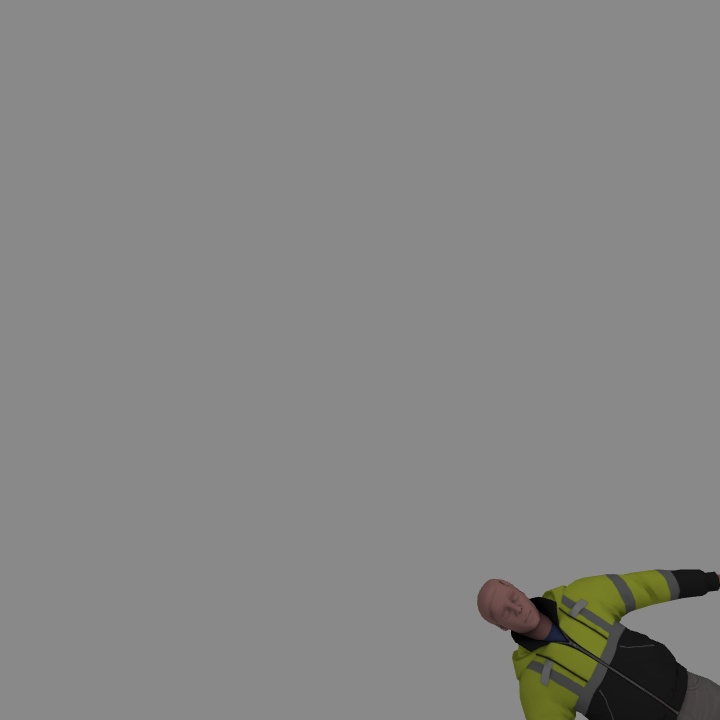victim: (481, 570, 720, 719)
